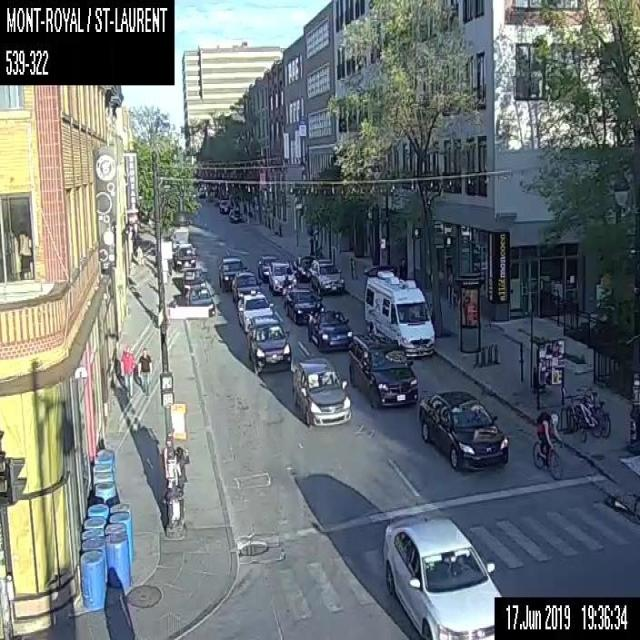cyclist: (531, 411, 567, 481)
pedestrian: (172, 441, 191, 518), (119, 342, 136, 400), (135, 344, 153, 397), (136, 244, 144, 267)
vehicle: (382, 508, 499, 639), (415, 383, 510, 475), (360, 264, 437, 359), (348, 332, 417, 409), (286, 353, 353, 430), (244, 316, 290, 376), (306, 308, 354, 352), (234, 291, 276, 333), (307, 258, 347, 296), (284, 286, 322, 324), (183, 286, 216, 317), (218, 256, 247, 289), (232, 272, 263, 300), (289, 252, 317, 282), (270, 263, 296, 292), (172, 244, 199, 270), (180, 268, 208, 290), (257, 253, 279, 280), (228, 206, 246, 223), (218, 200, 228, 213)
